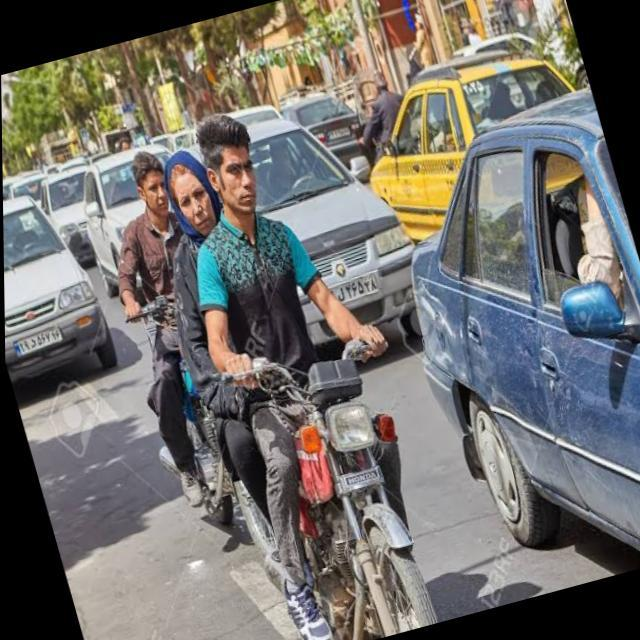Nonhelmet: (193, 112, 273, 217), (163, 148, 221, 249), (129, 150, 169, 220)
